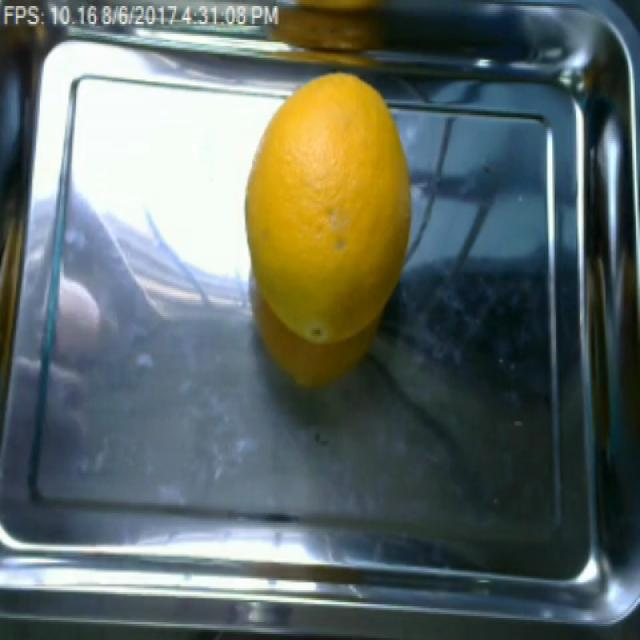Fruit: (233, 64, 412, 368)
